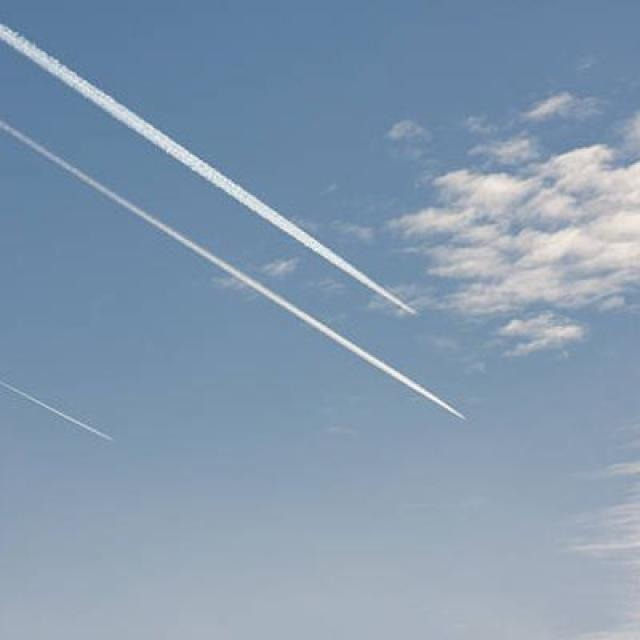Ct: (1, 12, 535, 484)
